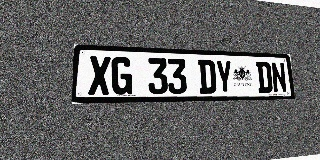3: (148, 58, 168, 94), (167, 58, 187, 94)
D: (198, 59, 217, 94), (256, 61, 273, 93)
G: (111, 57, 132, 95)
N: (271, 62, 287, 93)
X: (88, 56, 111, 95)
Y: (215, 60, 233, 93)
